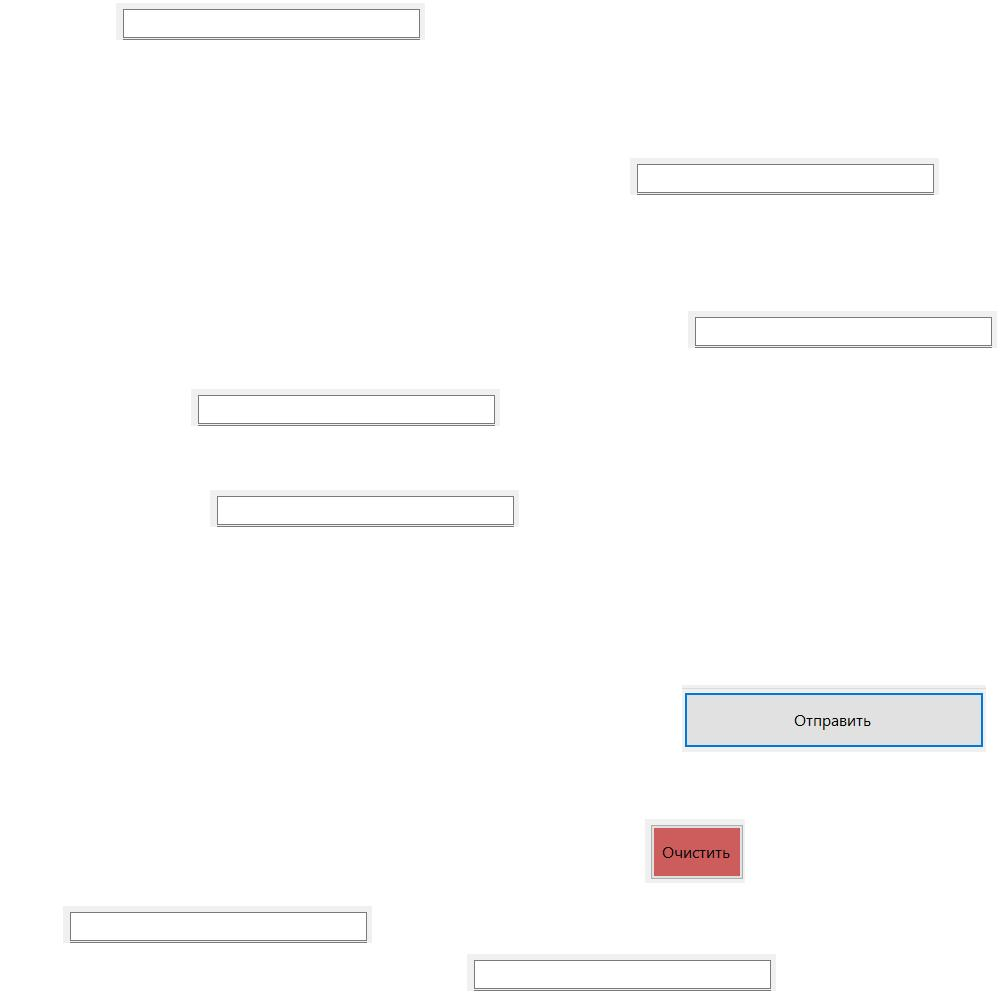Button: (682, 685, 986, 752), (645, 819, 745, 883)
EditText-: (630, 158, 939, 195), (191, 389, 500, 426), (688, 311, 997, 348), (116, 3, 425, 40), (63, 906, 372, 943), (467, 954, 776, 991), (210, 490, 519, 527)
